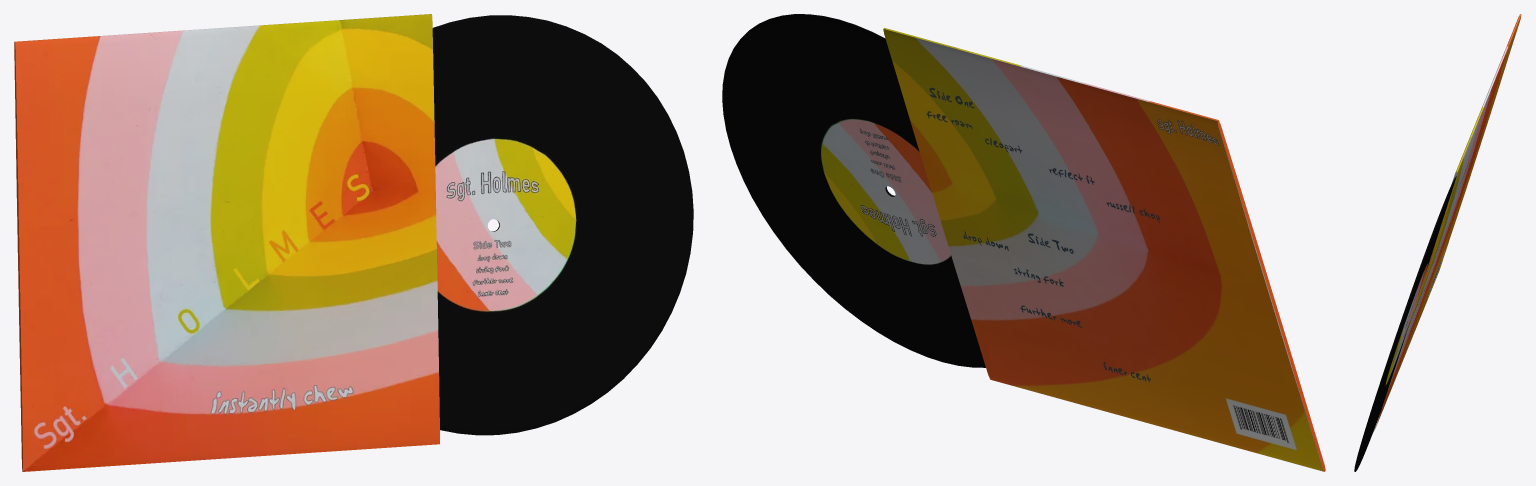
The model's file is vinyl-transformed.glb.
3 renders of one model, left to right at view 1: azimuth 30°, elevation 25°; view 2: azimuth 150°, elevation 25°; view 3: azimuth 270°, elevation 25°, orthographic. The views are drawn at different scales.
Parts seen in each view (by area): view 1: VinylRecordSgtHolmesSleeve_VinylRecordSgtHolmesSleeve_0, VinylRecordSgtHolmes_VinylRecordSgtHolmes_0; view 2: VinylRecordSgtHolmesSleeve_VinylRecordSgtHolmesSleeve_0, VinylRecordSgtHolmes_VinylRecordSgtHolmes_0; view 3: VinylRecordSgtHolmesSleeve_VinylRecordSgtHolmesSleeve_0, VinylRecordSgtHolmes_VinylRecordSgtHolmes_0.
Boxes of the visible parts, <box> form: VinylRecordSgtHolmesSleeve_VinylRecordSgtHolmesSleeve_0: <box>14,14,439,471</box>; VinylRecordSgtHolmes_VinylRecordSgtHolmes_0: <box>432,15,693,435</box>; VinylRecordSgtHolmesSleeve_VinylRecordSgtHolmesSleeve_0: <box>883,28,1325,471</box>; VinylRecordSgtHolmes_VinylRecordSgtHolmes_0: <box>722,14,985,367</box>; VinylRecordSgtHolmesSleeve_VinylRecordSgtHolmesSleeve_0: <box>1373,14,1521,432</box>; VinylRecordSgtHolmes_VinylRecordSgtHolmes_0: <box>1354,176,1456,471</box>.
Bounding box in the file's own units: 0.4286 × 0.2655 × 0.1332.
2 materials, 2 textured.
